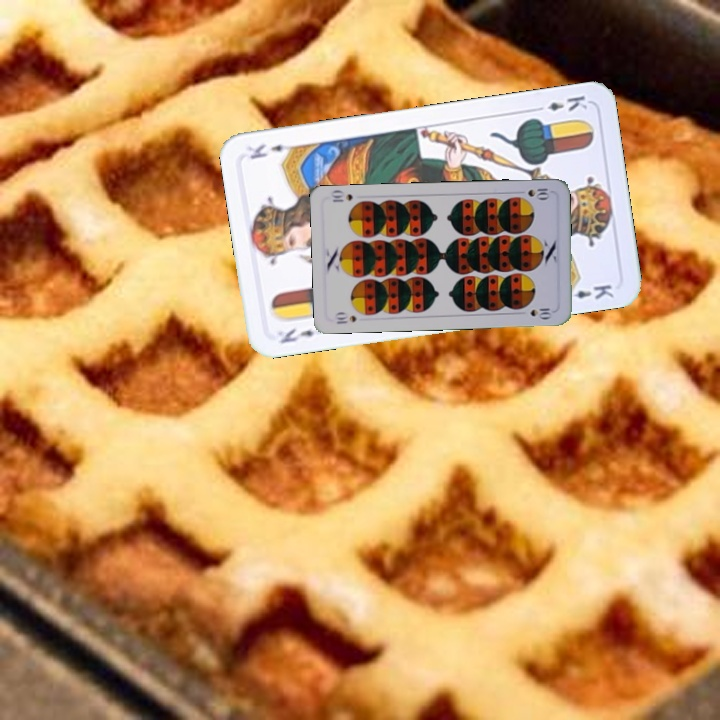EK: (530, 91, 590, 114), (276, 324, 317, 346)
S10: (524, 184, 552, 201), (331, 309, 359, 326)
